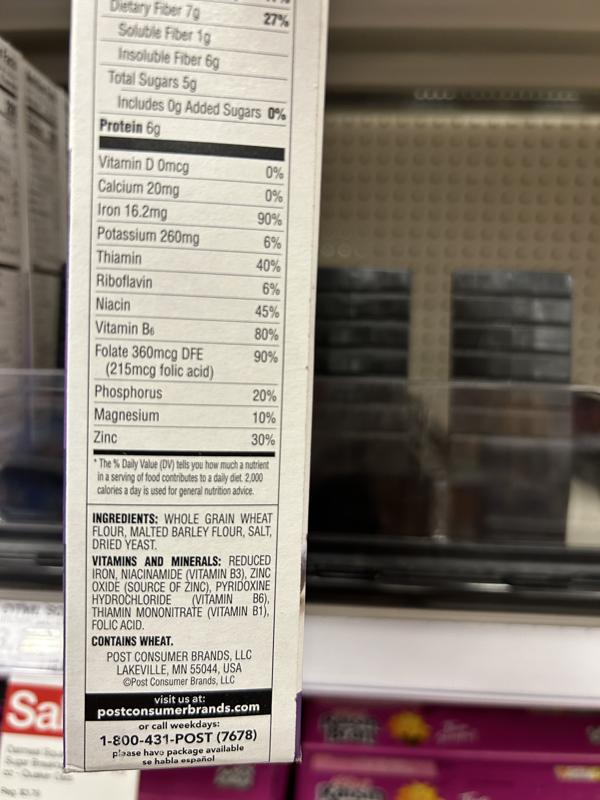ingredients: (90, 510, 274, 552)
